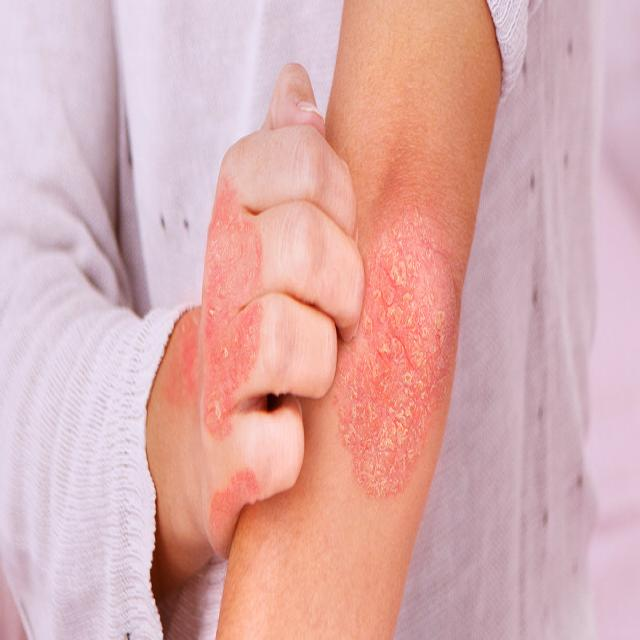eczema: (328, 230, 459, 492), (198, 210, 266, 545)
